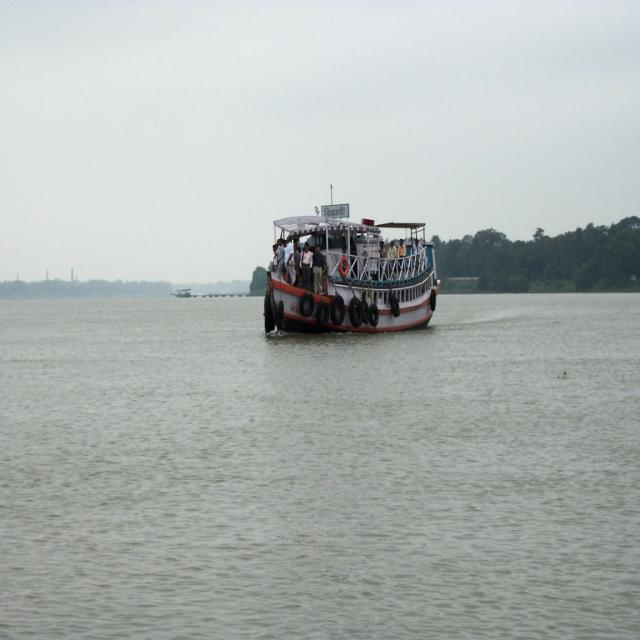fishing boat: (248, 190, 442, 346)
